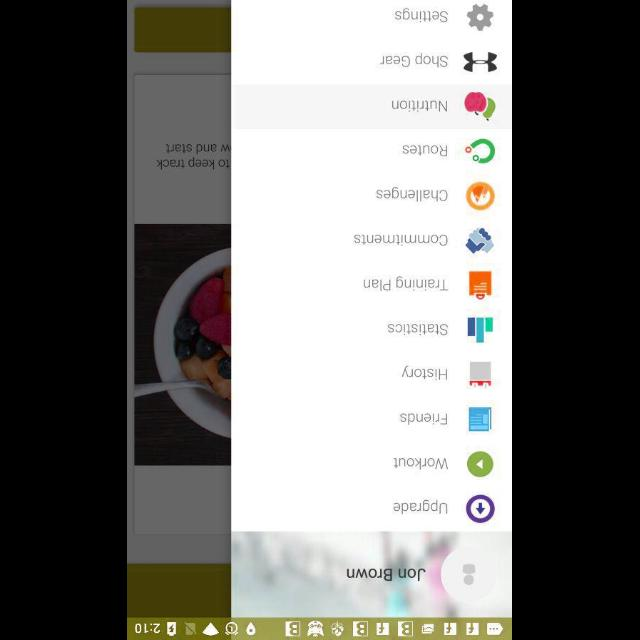icon: (441, 545, 499, 603), (466, 495, 496, 523), (468, 450, 494, 478), (468, 3, 494, 30)
image: (464, 92, 496, 120), (466, 182, 496, 210), (466, 226, 494, 254), (466, 138, 496, 164), (464, 52, 498, 72), (468, 317, 494, 343), (470, 270, 492, 300), (468, 407, 492, 431), (470, 361, 492, 387)
panel: (232, 0, 512, 618)
text: (364, 276, 450, 292), (376, 186, 448, 202), (354, 234, 448, 246), (348, 567, 427, 581), (381, 52, 449, 68), (394, 500, 448, 514), (402, 364, 448, 380), (396, 8, 448, 22), (388, 323, 448, 335), (392, 100, 448, 112), (400, 412, 448, 426), (394, 457, 448, 469), (402, 145, 448, 157)
uppertaskbar: (128, 617, 512, 639)
